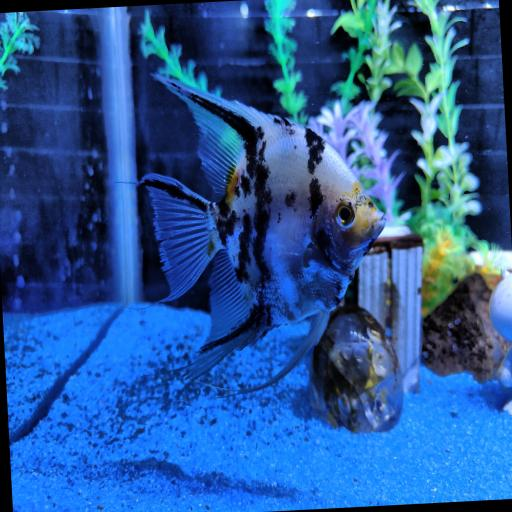Fish: (142, 75, 384, 389)
